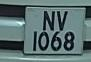0: (37, 30, 50, 53)
1: (30, 30, 39, 53)
6: (50, 30, 63, 53)
8: (63, 31, 76, 53)
N: (42, 9, 57, 33)
V: (55, 9, 70, 32)
